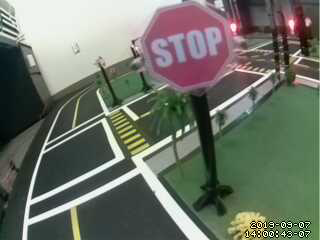Stop_Sign: (129, 3, 246, 90)
